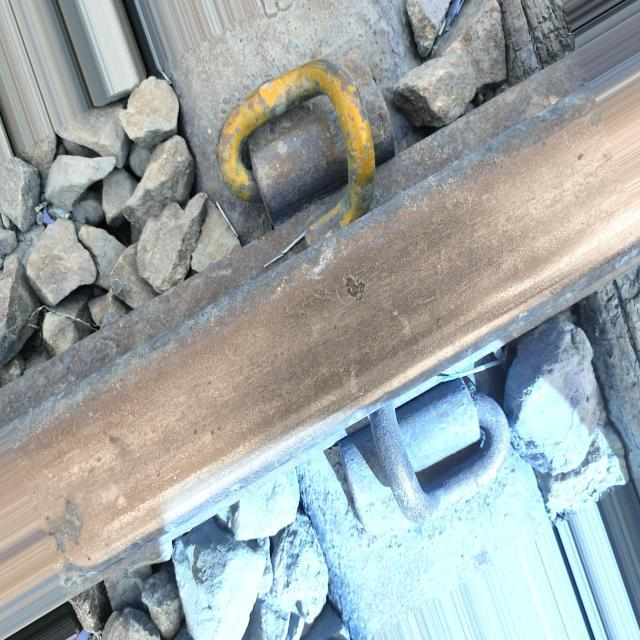Good Fasteners: (310, 362, 531, 569), (217, 17, 396, 251)
